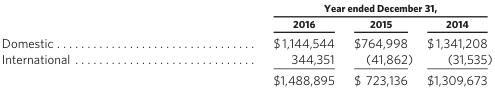table: (0, 1, 491, 86)
table column: (170, 1, 343, 86), (0, 1, 170, 86), (343, 1, 419, 86), (419, 1, 491, 86)
table column header: (0, 1, 491, 32)
table row: (0, 32, 491, 50), (0, 50, 491, 68), (0, 68, 491, 86), (0, 15, 491, 32), (0, 1, 491, 15)
table spanning cell: (170, 1, 491, 15)
